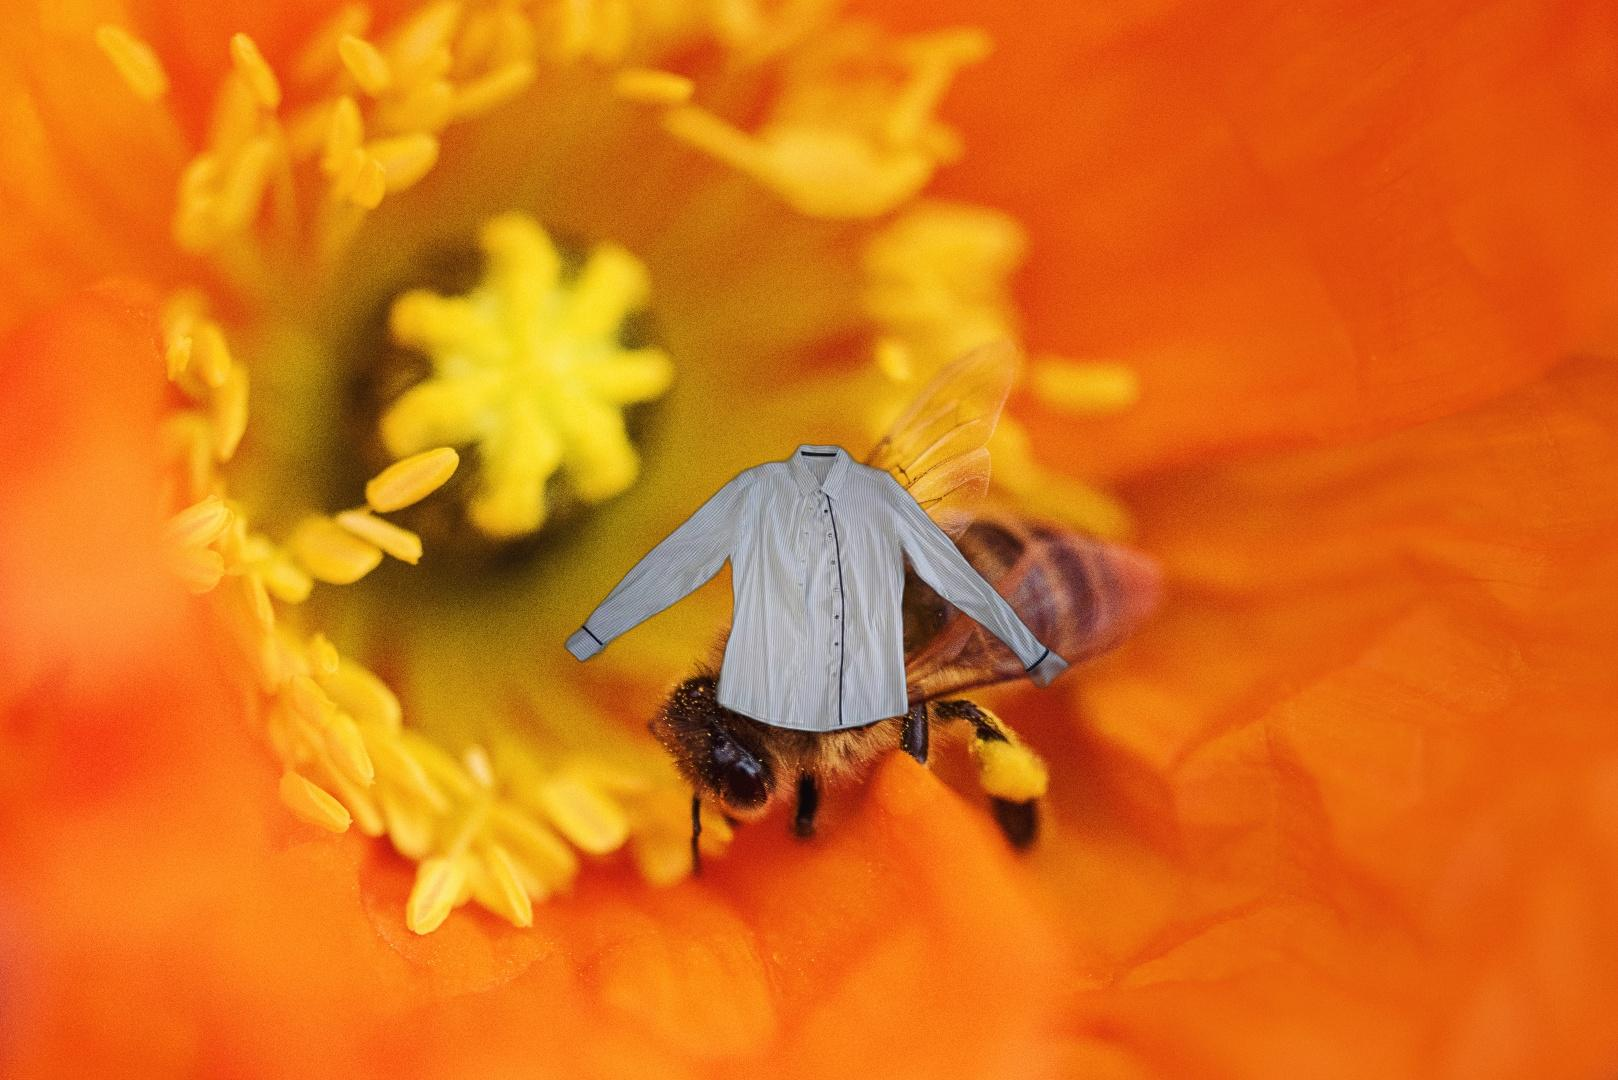clothes: (560, 441, 1078, 736)
